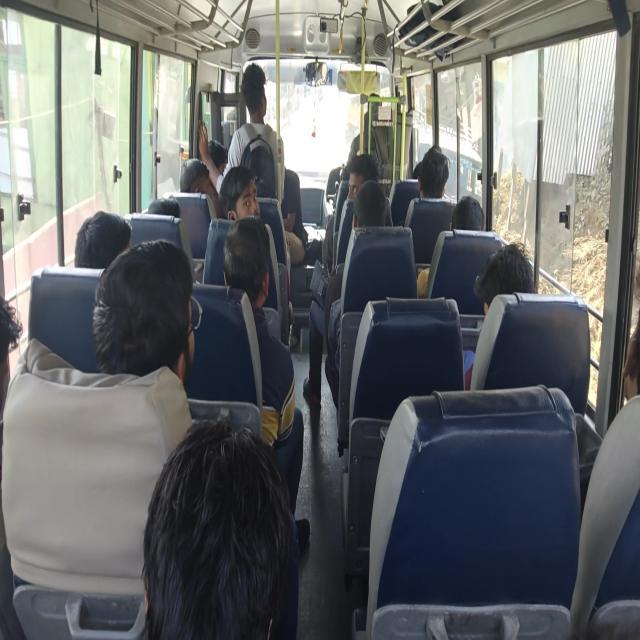person: (138, 414, 372, 640), (110, 246, 198, 378), (480, 247, 566, 336), (264, 109, 312, 262), (222, 218, 293, 301), (0, 288, 34, 422), (348, 188, 403, 252), (610, 313, 640, 426), (74, 207, 133, 264), (222, 178, 269, 230), (139, 185, 181, 239), (201, 130, 240, 185), (245, 56, 277, 120), (450, 192, 490, 238), (180, 153, 214, 203), (338, 154, 372, 199), (416, 143, 448, 187), (408, 151, 432, 180)
